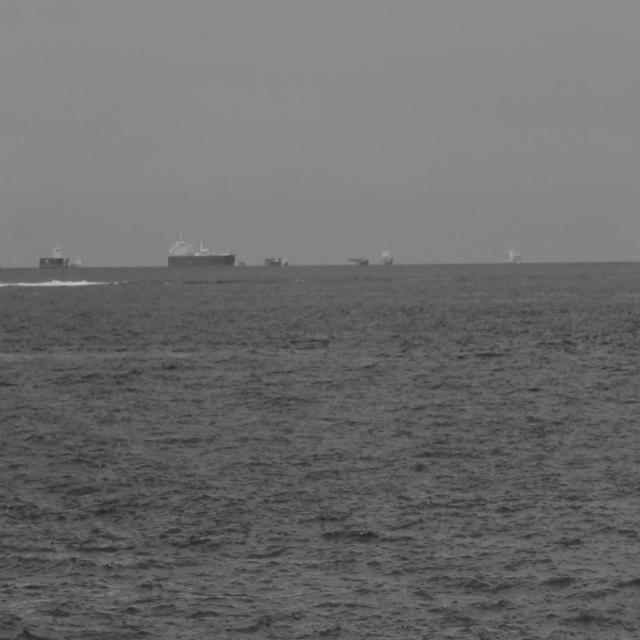ship: (167, 228, 236, 269), (38, 242, 70, 270), (506, 240, 522, 265), (379, 242, 394, 267), (346, 254, 369, 267), (264, 255, 282, 267), (283, 255, 289, 267)
